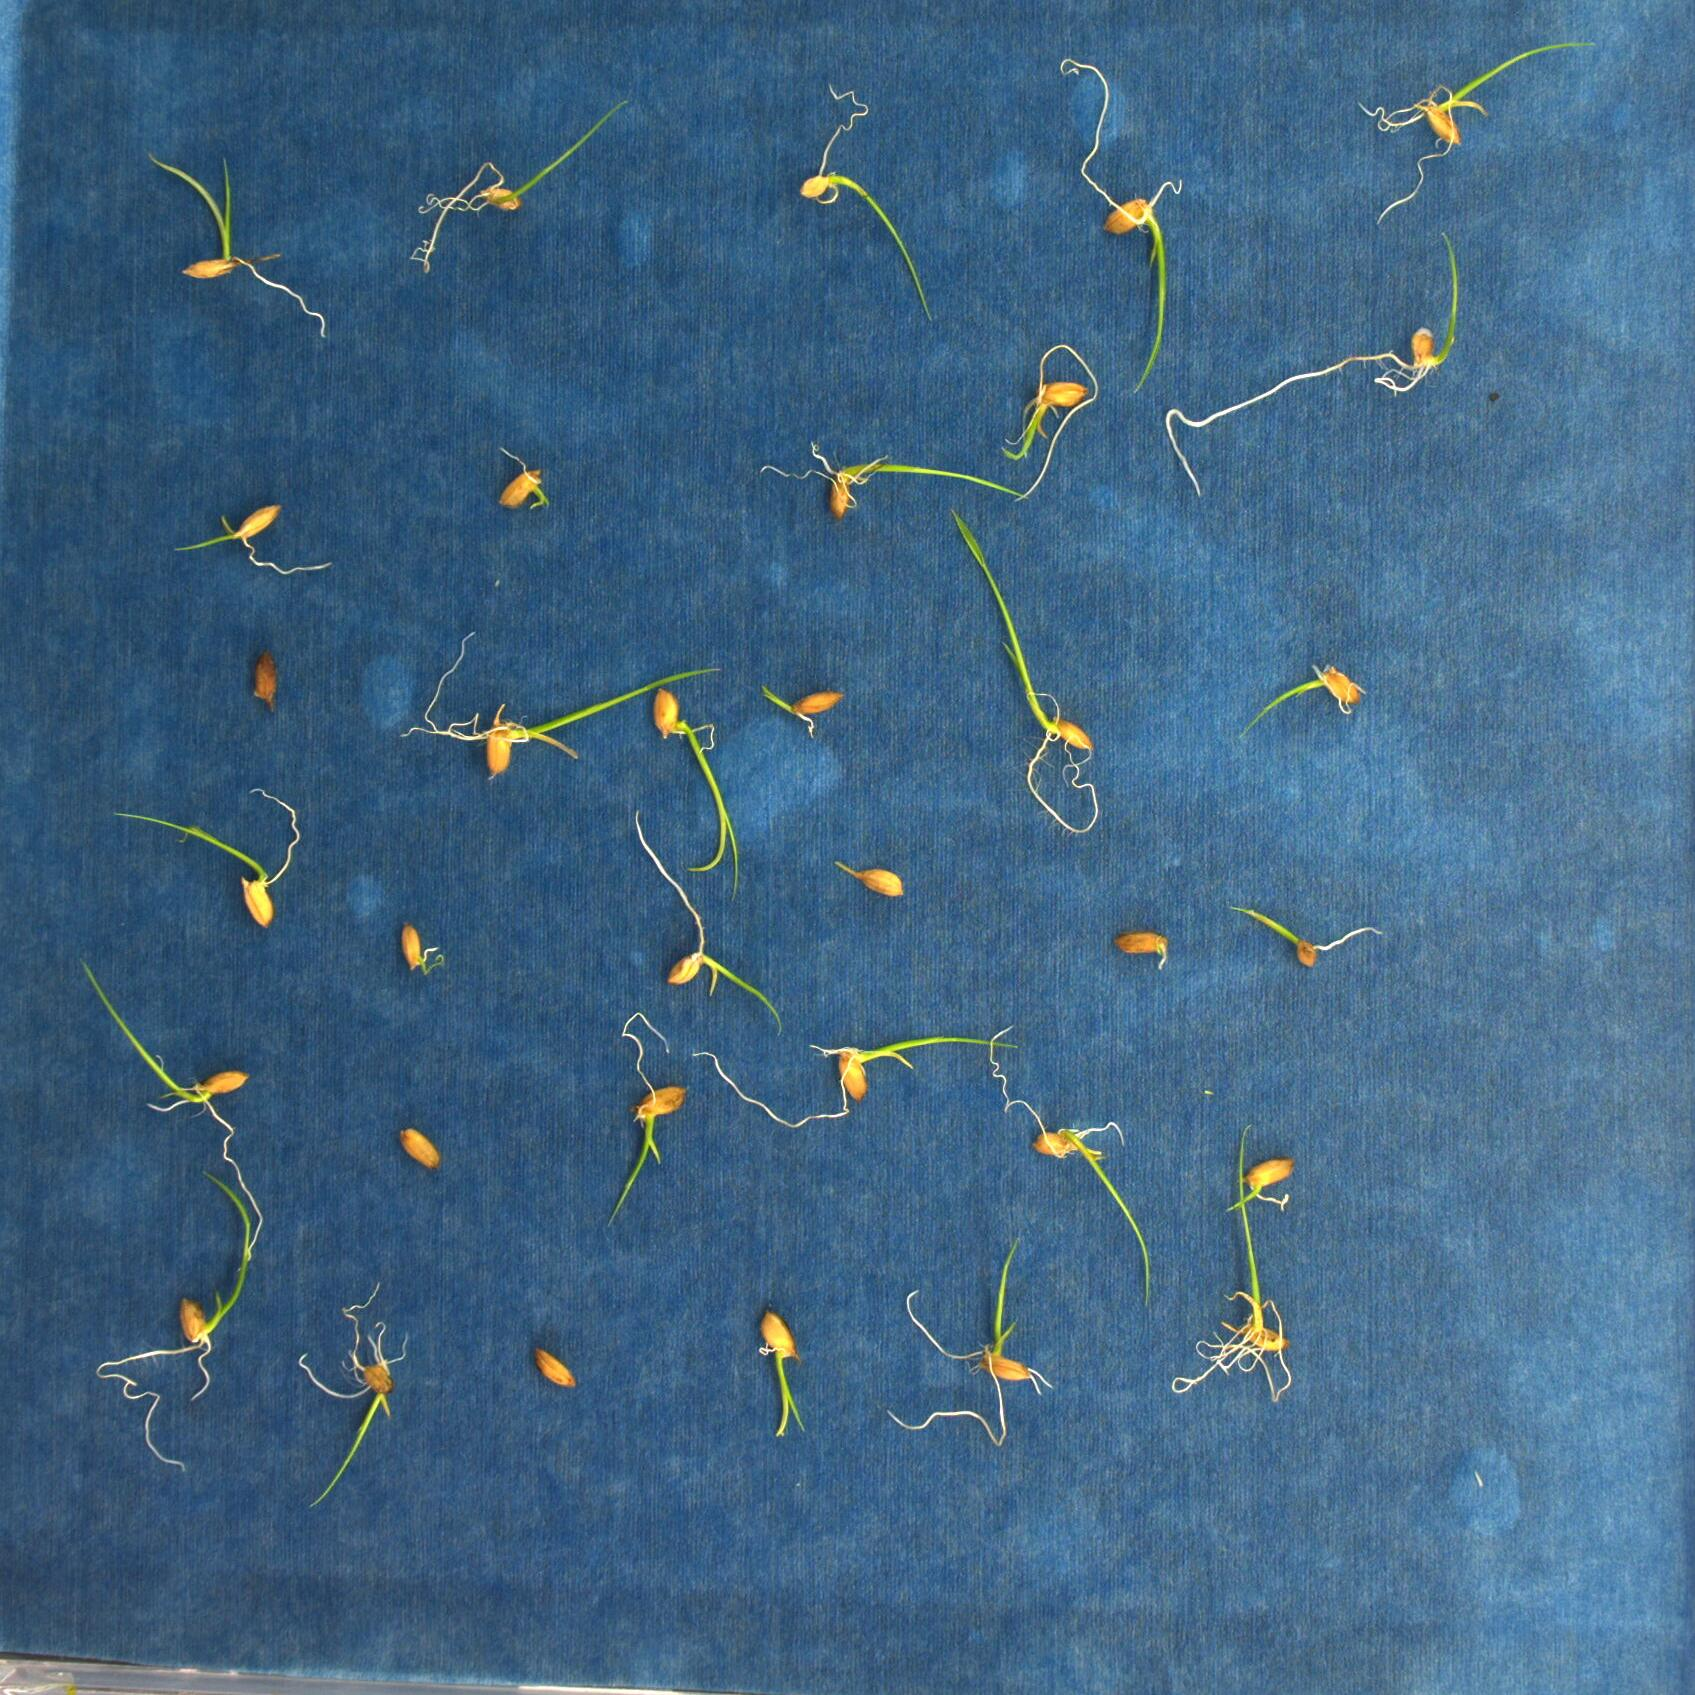not sprout: (1107, 927, 1186, 978), (838, 855, 914, 908), (244, 633, 290, 716), (382, 917, 444, 976), (391, 1118, 447, 1170), (528, 1340, 577, 1394)
sprout: (1156, 222, 1490, 498), (67, 1172, 282, 1478), (71, 958, 276, 1239), (944, 497, 1108, 844), (979, 1023, 1158, 1310), (386, 629, 722, 781), (1357, 33, 1607, 225), (1062, 29, 1191, 385), (137, 141, 348, 349), (1167, 1114, 1307, 1405), (889, 1240, 1069, 1451), (790, 56, 938, 310), (405, 118, 633, 273), (624, 818, 782, 1042), (88, 775, 289, 941), (717, 1028, 1024, 1122), (293, 1277, 411, 1510), (751, 441, 1040, 528), (640, 685, 757, 886), (604, 1004, 706, 1234), (995, 343, 1101, 498), (179, 489, 334, 584), (1232, 900, 1397, 970), (1237, 653, 1366, 737), (753, 1309, 823, 1450), (1220, 1155, 1315, 1225), (757, 667, 844, 740), (489, 445, 551, 522)
